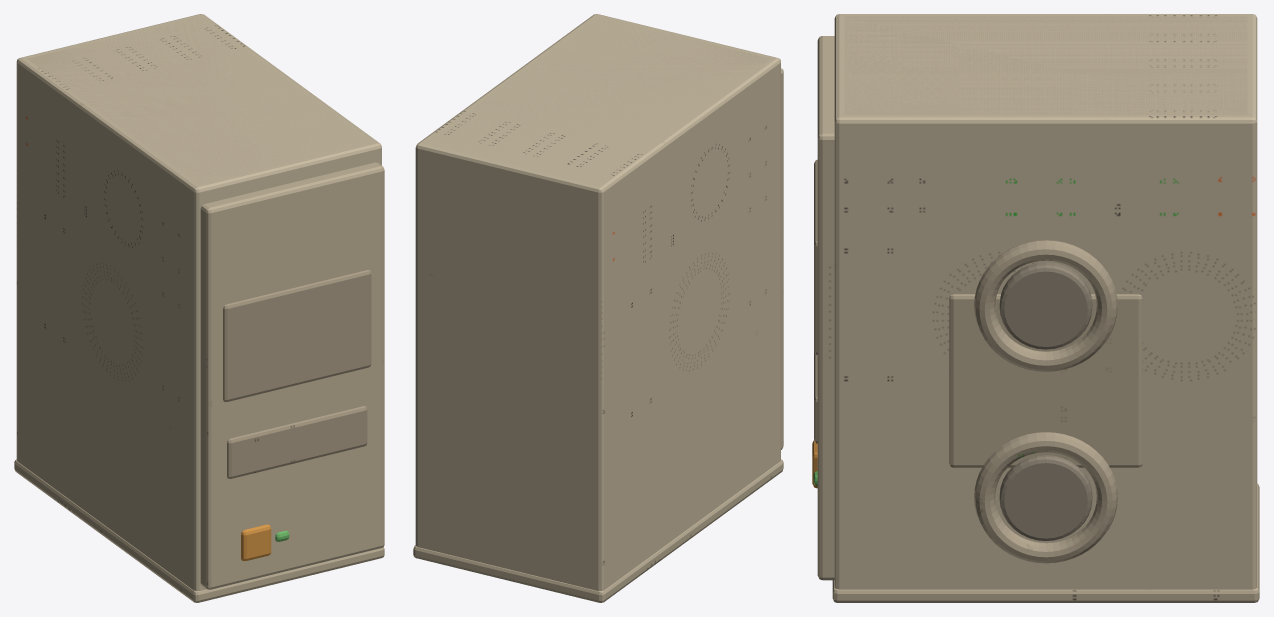
File: compute-pc-tower-era1.glb
3 views of the same model, side by side, from view 1: azimuth 30°, elevation 25°; view 2: azimuth 150°, elevation 25°; view 3: azimuth 270°, elevation 25° (orthographic). The views are drawn at different scales.
Visible parts, largest first — view 1: mesh_compute-pc-tower-era1; view 2: mesh_compute-pc-tower-era1; view 3: mesh_compute-pc-tower-era1.
Part boxes in pixels (bbox=[...]): mesh_compute-pc-tower-era1: bbox=[14, 14, 384, 602]; mesh_compute-pc-tower-era1: bbox=[413, 14, 783, 602]; mesh_compute-pc-tower-era1: bbox=[812, 14, 1259, 602].
Size of the model in its own units: 0.255 by 0.52 by 0.423.
Materials: 1 (1 with a texture image).
